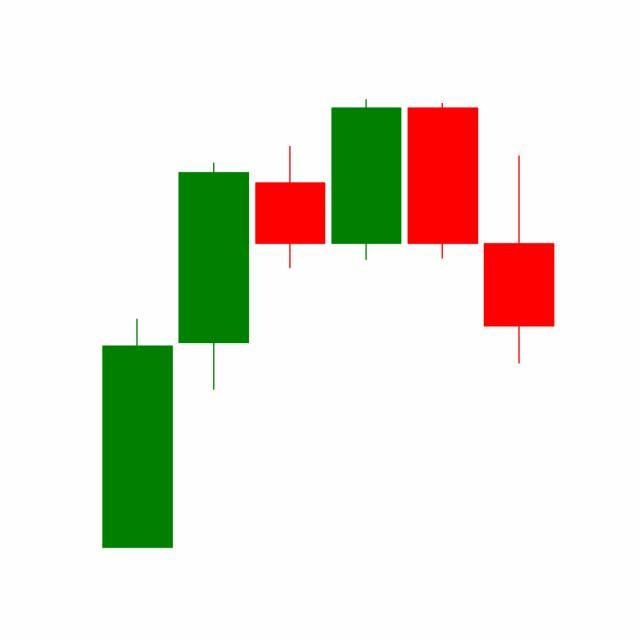Hikkake Pattern: (175, 100, 555, 395)
